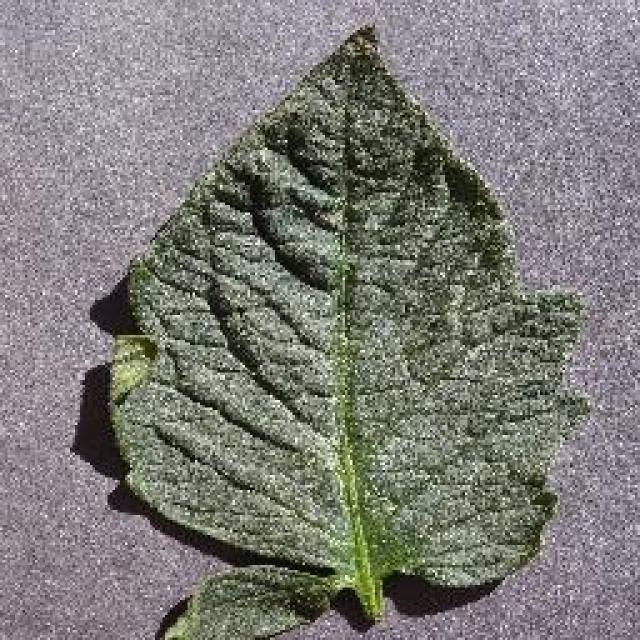Tomato_Healthy: (92, 36, 600, 598)
